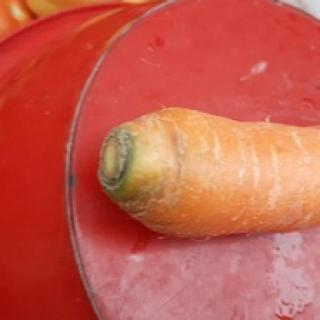carrot: (95, 106, 320, 237)
